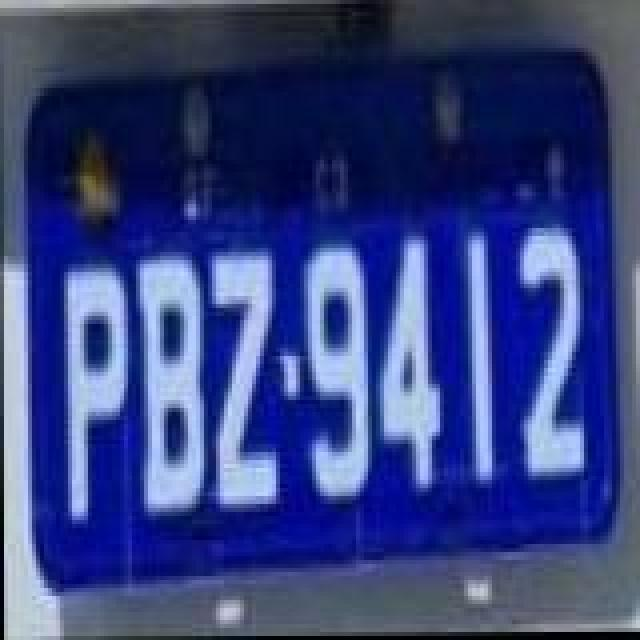1: (468, 236, 496, 488)
2: (518, 224, 590, 484)
4: (378, 240, 442, 496)
9: (304, 244, 372, 500)
B: (134, 258, 206, 522)
P: (64, 268, 132, 528)
Z: (208, 250, 276, 514)
